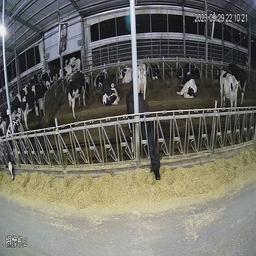cow: (125, 88, 165, 190), (3, 110, 29, 185), (14, 78, 49, 124), (171, 60, 202, 108), (212, 65, 236, 120), (62, 69, 90, 112), (227, 57, 248, 98), (98, 78, 122, 111), (137, 58, 152, 88), (119, 61, 134, 82), (154, 59, 166, 84)
